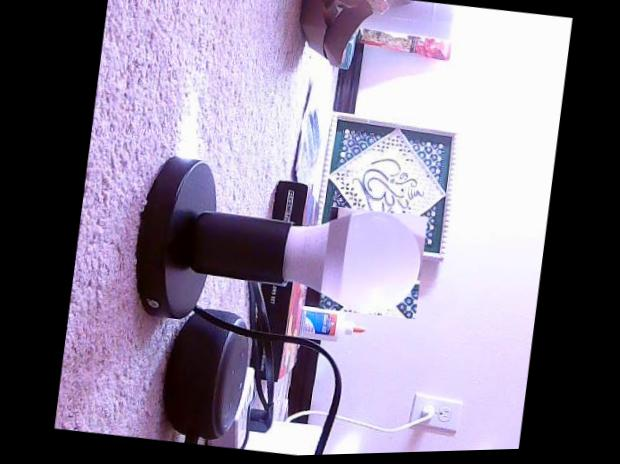Fan: (317, 205, 428, 322)
